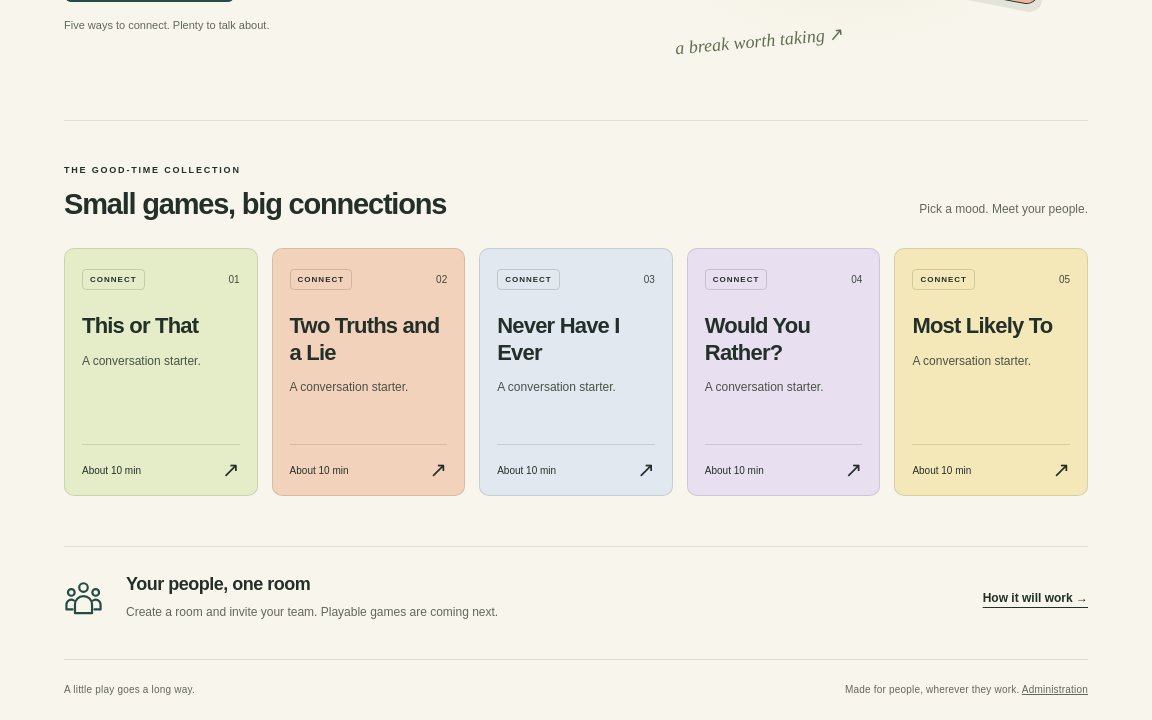
Test: application shell › lists all five games and navigates to instructions
The image size is (1152, 720).
(page scrolled)
Check: the heading "This or That" is shown, box [82,313,198,338]
Check: the heading "Two Truths and a Lie" is shown, box [290,313,447,366]
What coordinates should you click on to do the following:
click the 2nd link
I would click on:
 (161, 372)
Its box is [64,248,258,496].
(page scrolled)
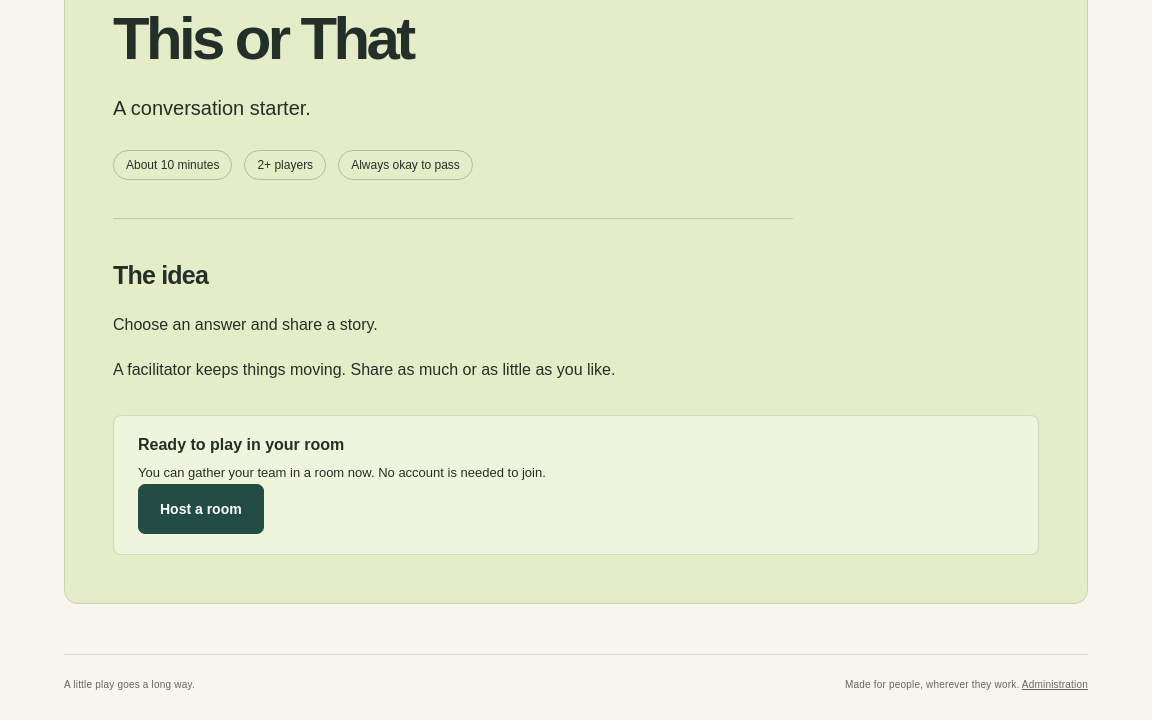
Check: the heading "This or That" is shown, box [113,5,412,72]
Check: the text "Ready to play in your room" is shown, box [138,436,344,453]
